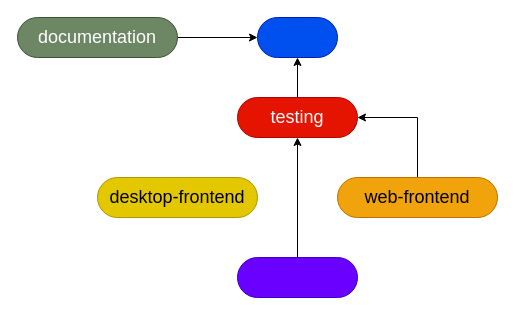
Some shapes in this 515 by 315 pixel diagram are drawn without their labels. The shapes that lost their labels are listed below. From the top down, each one's box as (x1, y1, x2, y2) in pixels, then its label:
(256, 16, 338, 58): main
(236, 256, 358, 298): backend
